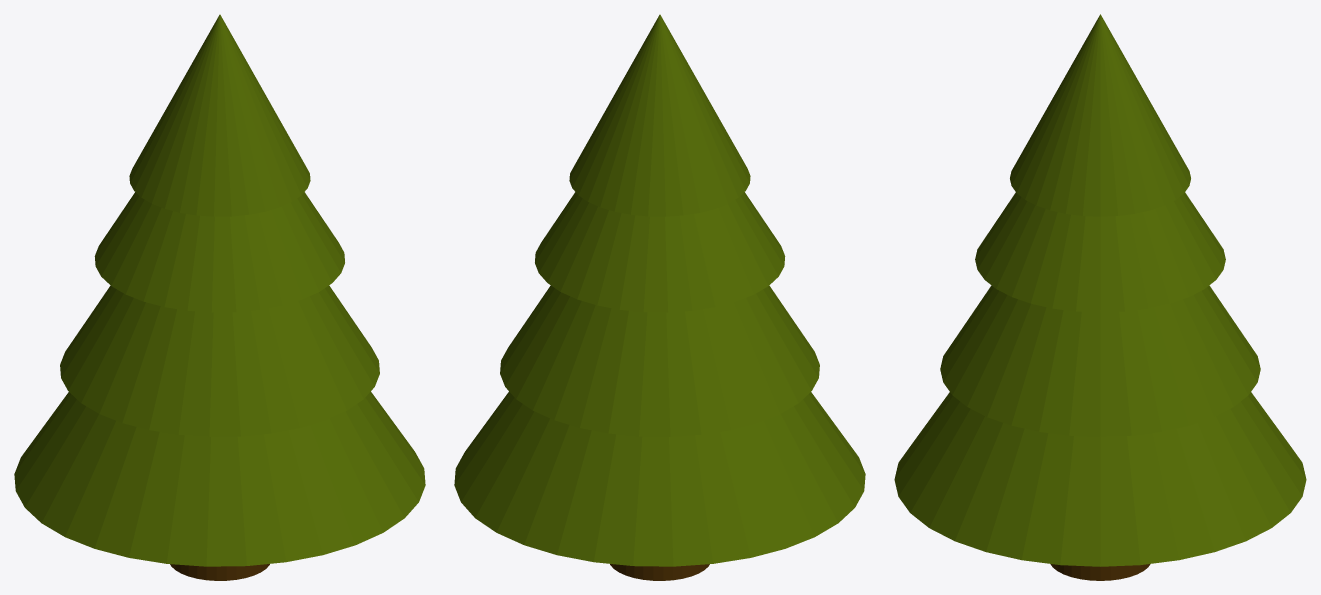
The model's file is tree.fbx.
3 views of the same model, side by side, from view 1: azimuth 30°, elevation 25°; view 2: azimuth 150°, elevation 25°; view 3: azimuth 270°, elevation 25° (orthographic).
Visible parts, largest first — view 1: Cone, Cone.001, Cone.002, Cone.003, Cylinder; view 2: Cone, Cone.001, Cone.002, Cone.003, Cylinder; view 3: Cone, Cone.001, Cone.002, Cone.003, Cylinder.
Boxes of the visible parts, x1,y1,x2,y2 form: Cone: [14, 391, 425, 566]; Cone.001: [60, 285, 379, 436]; Cone.002: [94, 192, 344, 312]; Cone.003: [129, 14, 310, 216]; Cylinder: [170, 564, 269, 580]; Cone: [454, 391, 865, 566]; Cone.001: [500, 285, 819, 436]; Cone.002: [535, 192, 785, 312]; Cone.003: [569, 14, 750, 216]; Cylinder: [610, 564, 709, 580]; Cone: [894, 392, 1306, 566]; Cone.001: [940, 285, 1260, 436]; Cone.002: [975, 192, 1225, 312]; Cone.003: [1010, 14, 1190, 216]; Cylinder: [1050, 564, 1150, 580].
Size of the model in its own units: 396 by 578 by 396.
